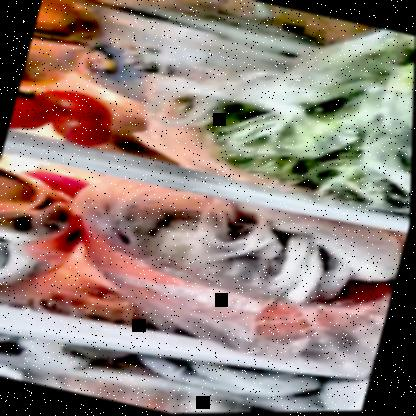lettuce: (146, 0, 415, 225)
tomato: (9, 77, 126, 153)
